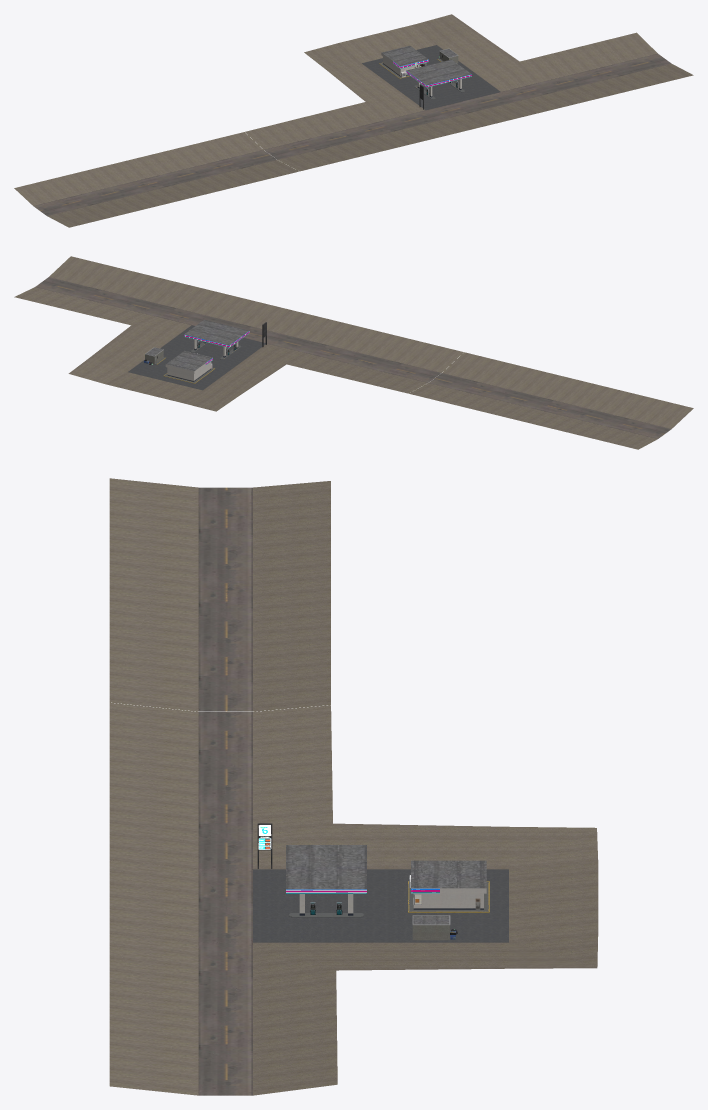
File: station.glb
3 renders of one model, top to bottom at view 1: azimuth 30°, elevation 25°; view 2: azimuth 150°, elevation 25°; view 3: azimuth 270°, elevation 25°, orthographic. The views are drawn at different scales.
Visible parts, largest first — view 1: Ground, Road.001, Road, AsphaltDamaged, The_ceiling, 6twelve.003, 6twelve; view 2: Ground, Road.001, Road, AsphaltDamaged, The_ceiling, 6twelve.003, 6twelve; view 3: Ground, Road.001, Road, AsphaltDamaged, The_ceiling, 6twelve.003, 6twelve, Bathrooms.
Part boxes in pixels (x1,y1,x2,y2): Ground: (245,14,693,171); Road.001: (14,132,298,227); Road: (264,53,671,159); AsphaltDamaged: (362,45,500,110); The_ceiling: (406,59,471,87); 6twelve.003: (381,45,428,66); 6twelve: (381,53,428,76); Ground: (14,256,463,411); Road.001: (409,352,693,449); Road: (35,277,441,382); AsphaltDamaged: (128,325,265,390); The_ceiling: (184,319,249,347); 6twelve.003: (166,350,212,371); 6twelve: (165,358,212,381); Ground: (109,702,598,1095); Road.001: (109,478,330,711); Road: (198,712,252,1095); AsphaltDamaged: (253,869,508,942); The_ceiling: (286,845,366,893); 6twelve.003: (411,860,486,888); 6twelve: (411,888,486,909); Bathrooms: (412,915,450,940).
Size of the model in its own units: 297 by 13.39 by 101.
Materials: 40 (40 with a texture image).
